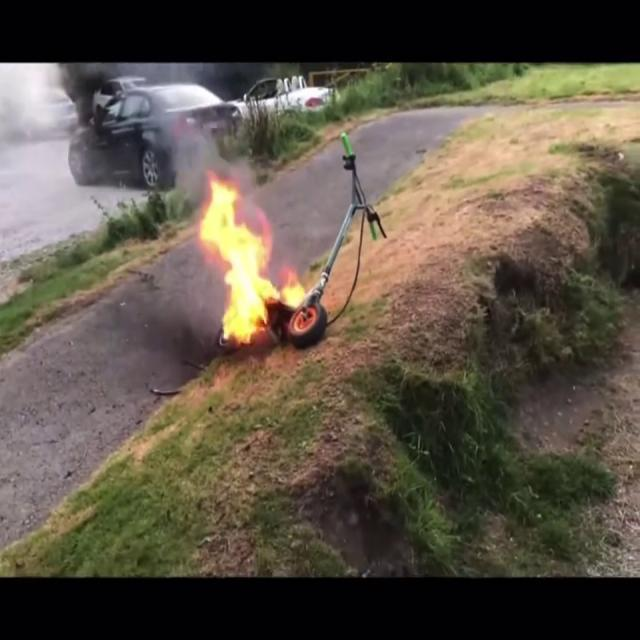Fire: (195, 179, 312, 345)
Smoke: (152, 94, 242, 200)
